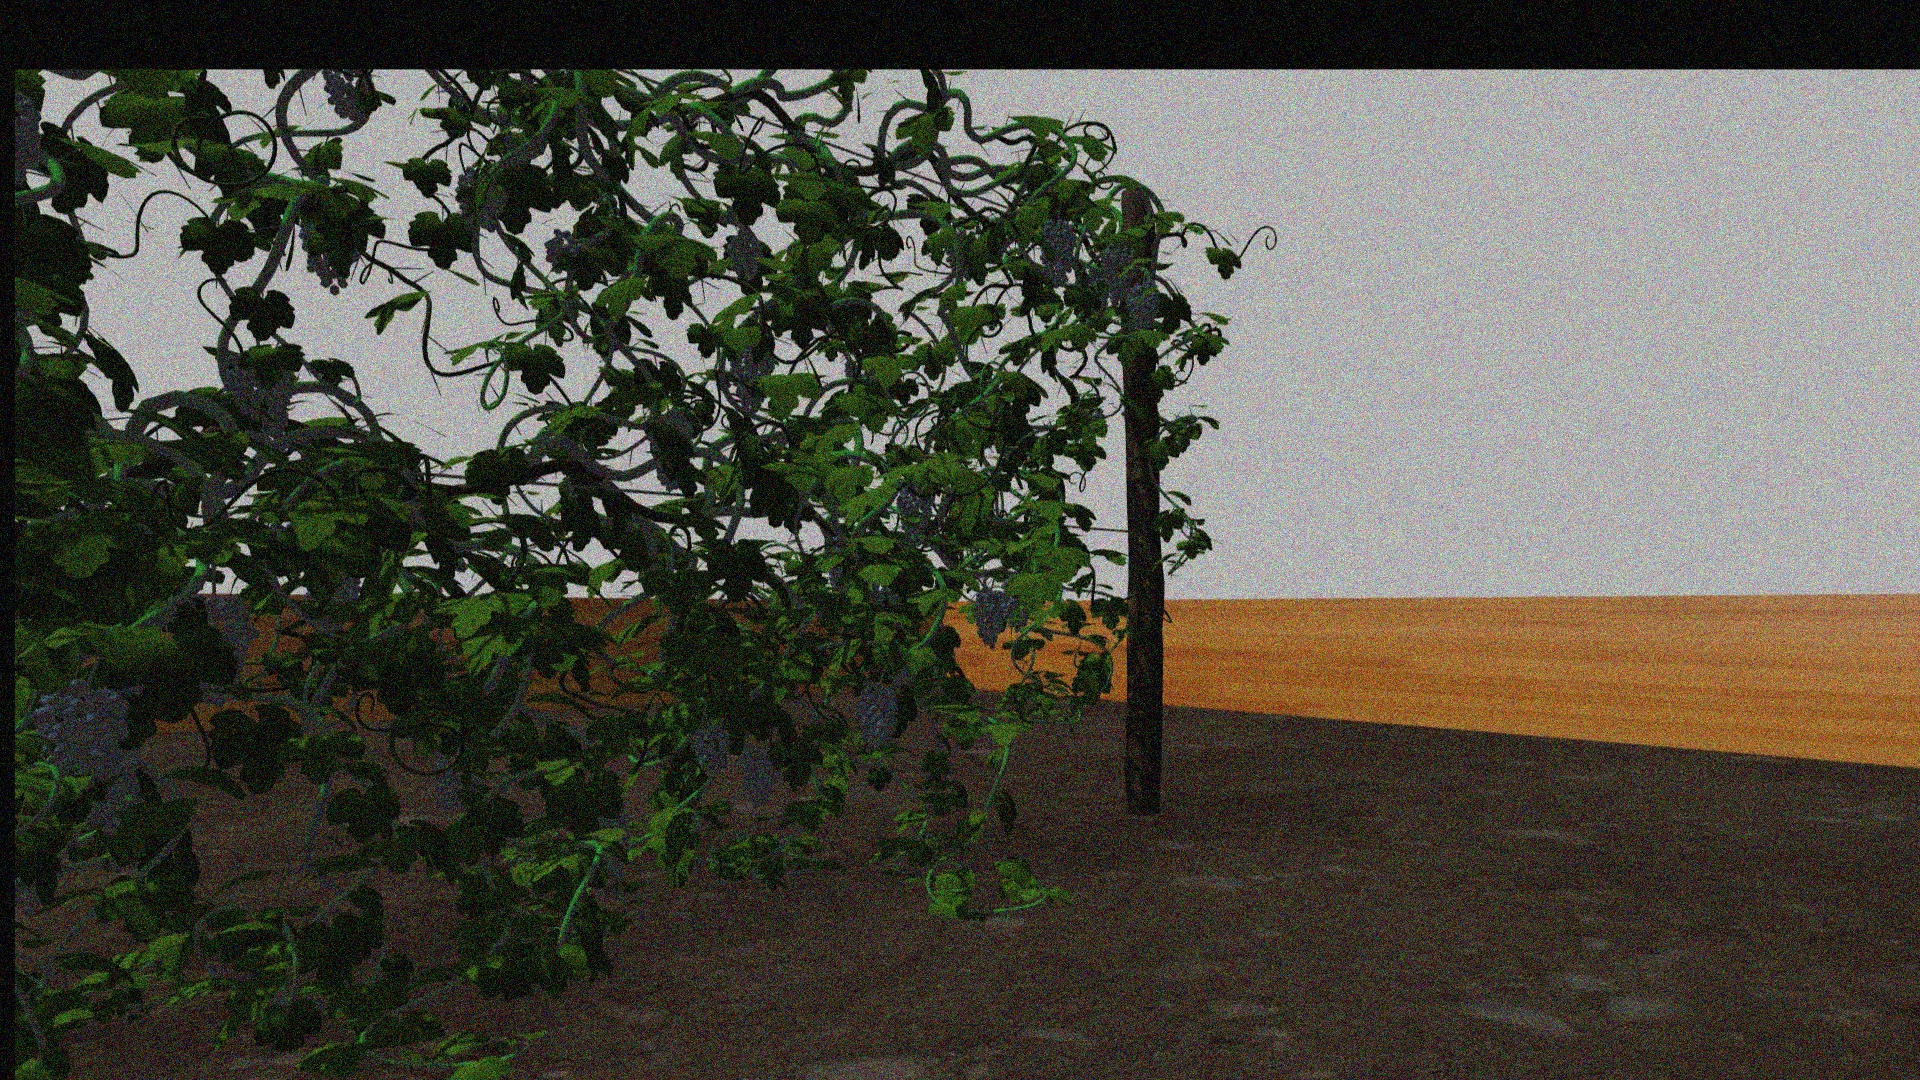grape: (32, 682, 127, 771), (190, 595, 258, 709), (224, 353, 295, 438), (727, 339, 775, 415), (84, 775, 142, 836), (454, 167, 508, 229), (855, 680, 898, 753), (430, 754, 483, 810), (1098, 237, 1139, 309), (738, 742, 782, 808), (1036, 218, 1077, 287), (320, 73, 377, 120), (895, 483, 934, 539), (723, 228, 764, 281), (971, 585, 1004, 650), (688, 723, 731, 773), (1125, 284, 1158, 335), (543, 229, 585, 266), (1004, 595, 1029, 632)
